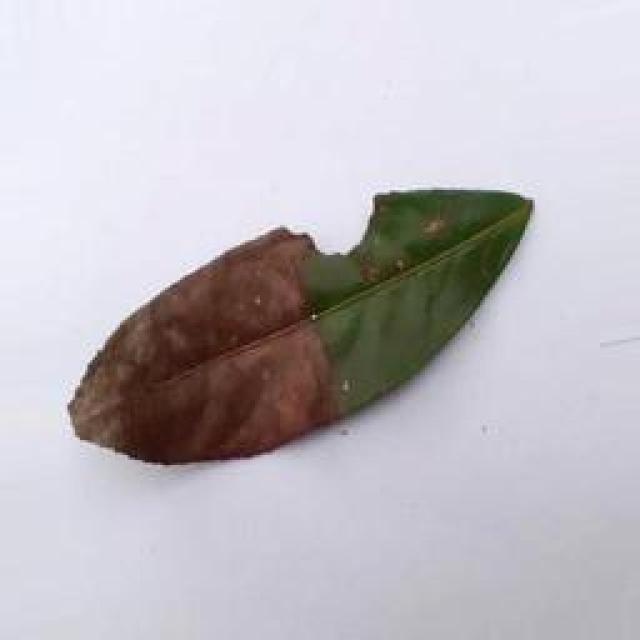Brown Blight: (53, 176, 557, 456)
